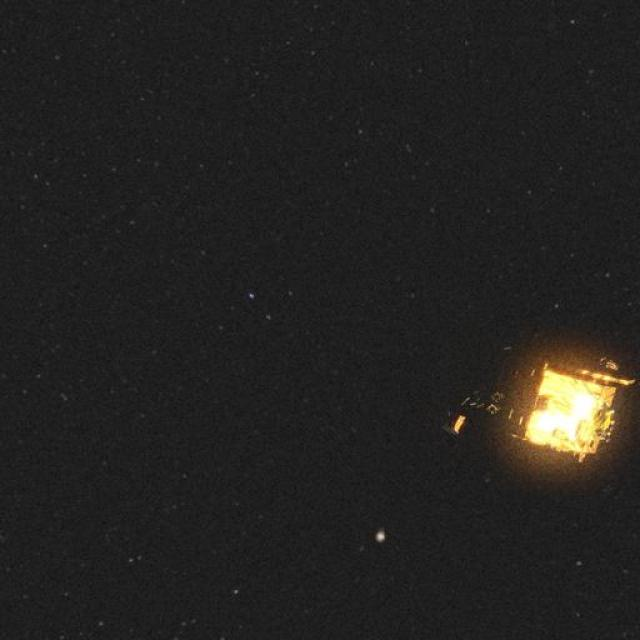lisa_pathfinder: (428, 328, 640, 506)
